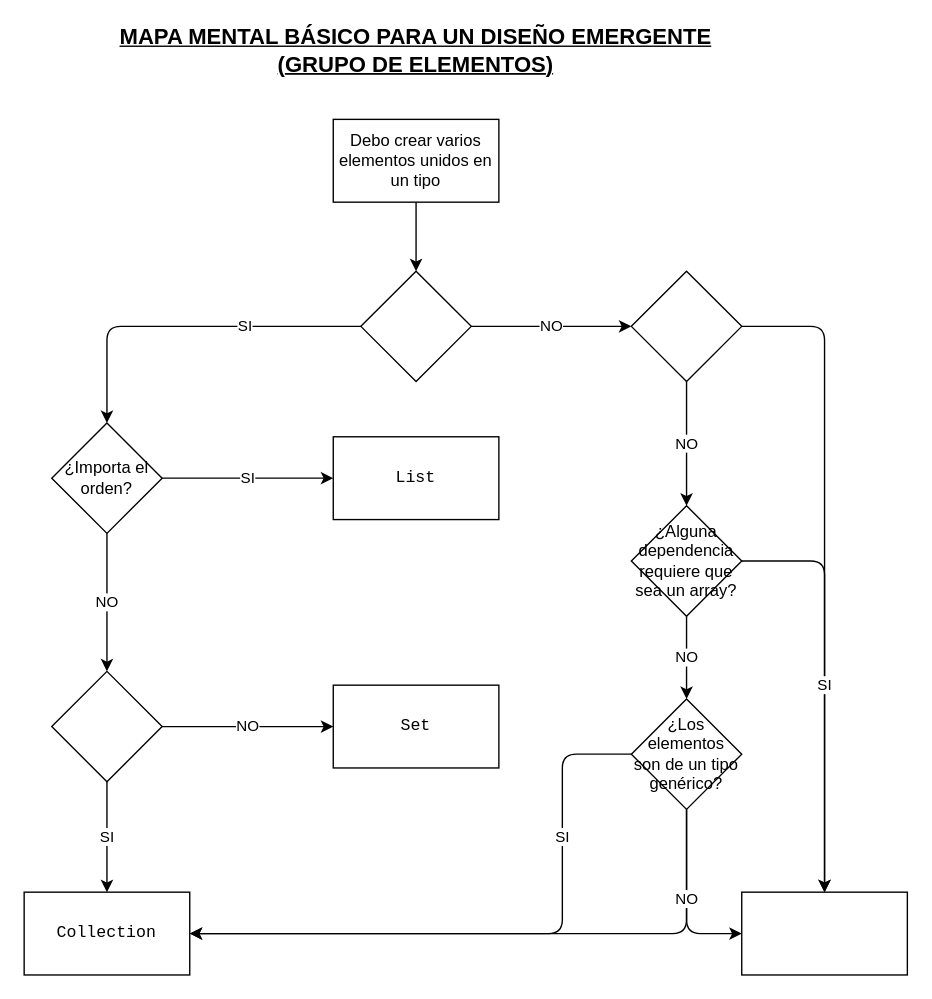
Some shapes in this 932 by 999 pixel diagram are drawn without their labels. The centre of each missing label's shape, as x and y in pixels:
"array" belongs at pixel 823 933.
"¿El número de elementos cambiará?" belongs at pixel 415 326.
"¿Quiero usar valores primitivos?" belongs at pixel 686 326.
"¿Se pueden repetir los elementos?" belongs at pixel 106 726.
